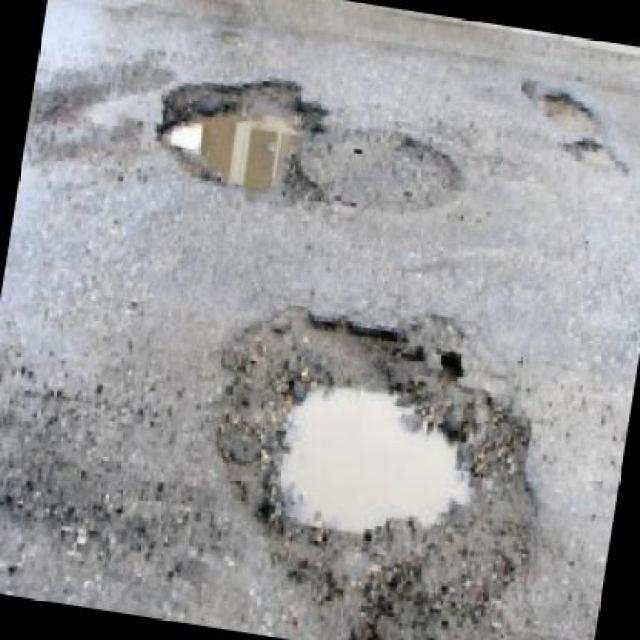pothole1: (177, 283, 569, 639), (143, 54, 346, 209), (513, 72, 601, 136), (558, 132, 632, 178)
